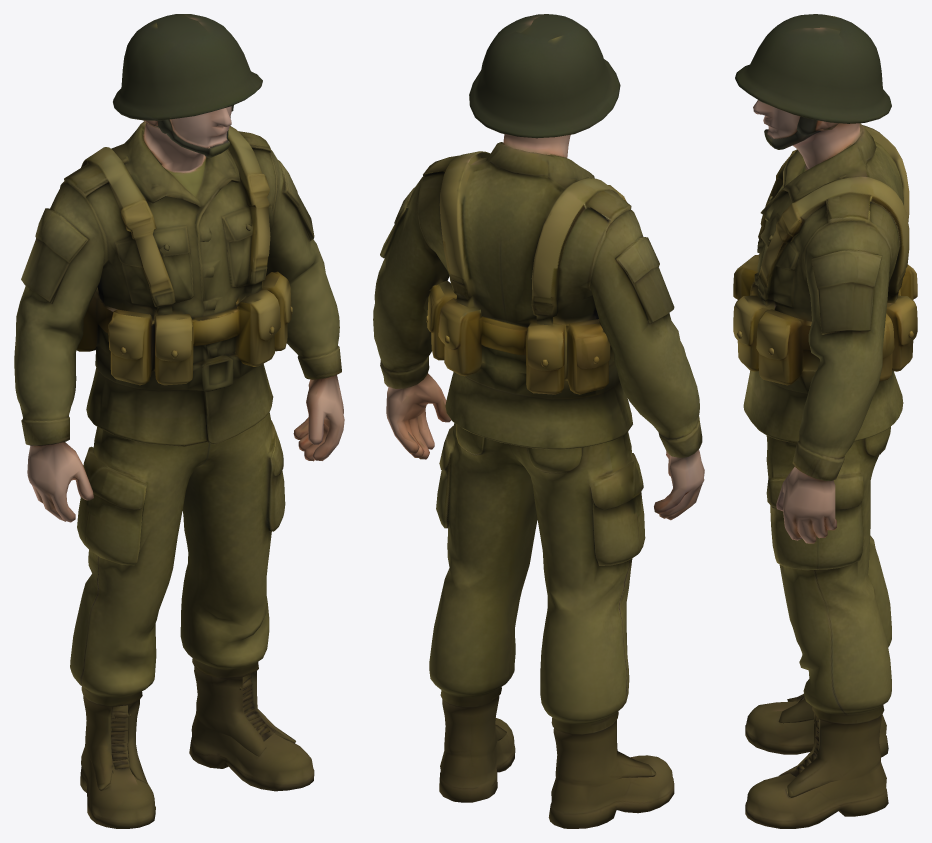
3 views of the same model, side by side, from view 1: azimuth 30°, elevation 25°; view 2: azimuth 150°, elevation 25°; view 3: azimuth 270°, elevation 25° (orthographic).
Visible parts, largest first — view 1: material; view 2: material; view 3: material.
Boxes of the visible parts, x1=… form: material: x1=14, y1=14, x2=344, y2=828; material: x1=373, y1=14, x2=704, y2=828; material: x1=733, y1=14, x2=917, y2=828.
Bounding box in the file's own units: 82.6 × 190 × 41.98.
Materials: 1 (1 with a texture image).
